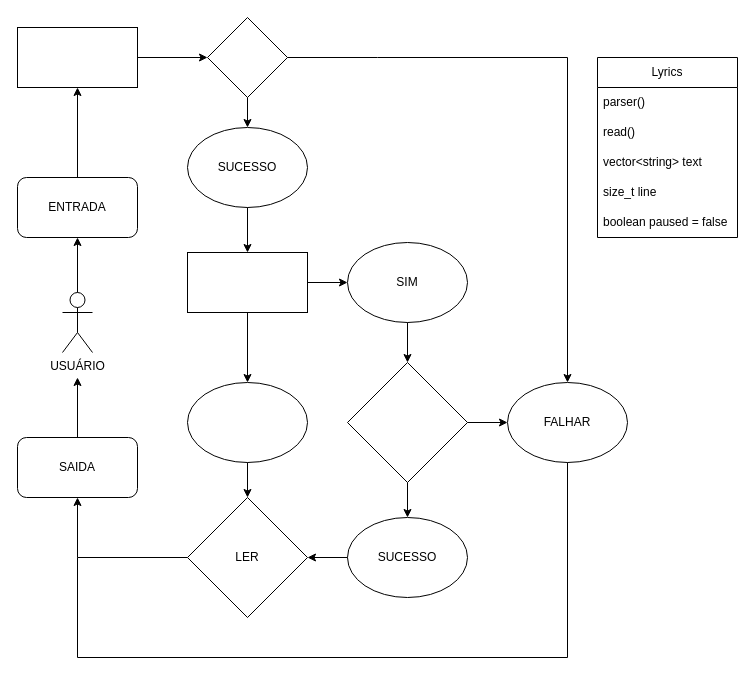
Some shapes in this 755 by 676 pixel diagram are drawn without their labels. Here are the shapes that lost their labels. From the top down, the centre of each, then its label:
At pixel 77 57: "TEXTO".
At pixel 247 57: "PARSER".
At pixel 247 282: "SE QUER SINCRONIZAR".
At pixel 247 422: "NÃO".
At pixel 407 422: "SINCRONIZAR".
